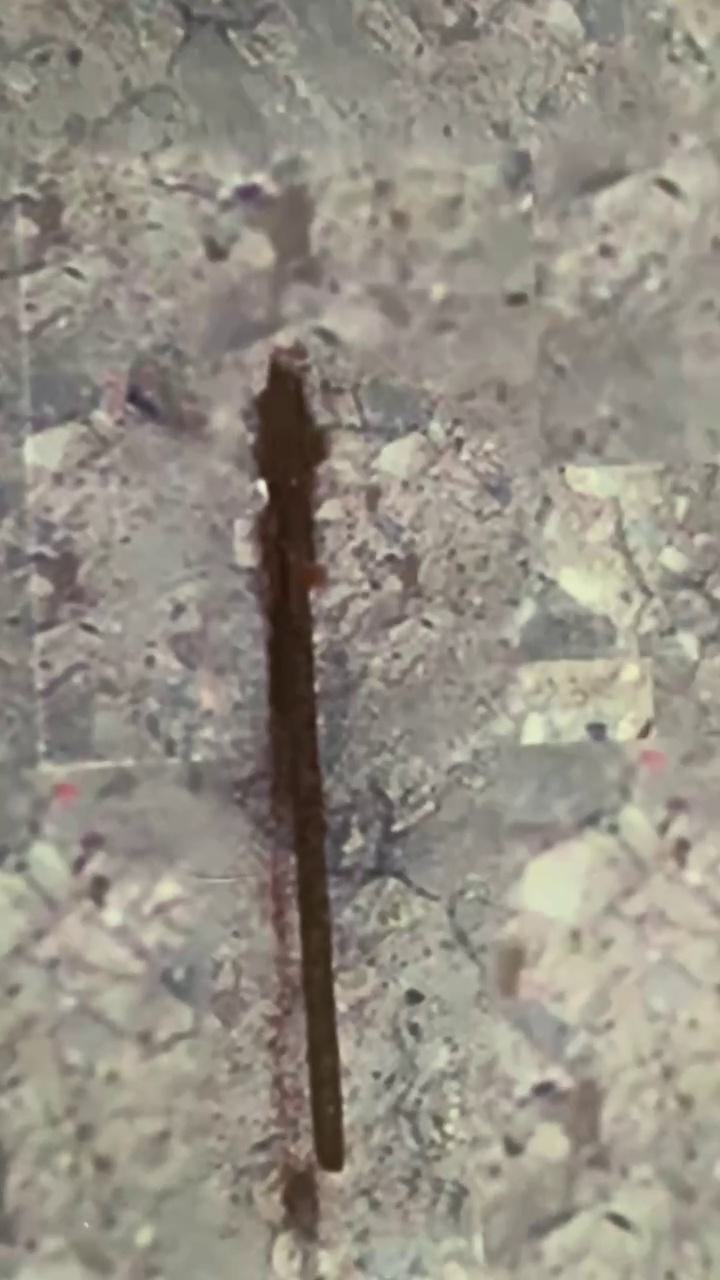Exposed reinforcement: (254, 347, 350, 1175)
